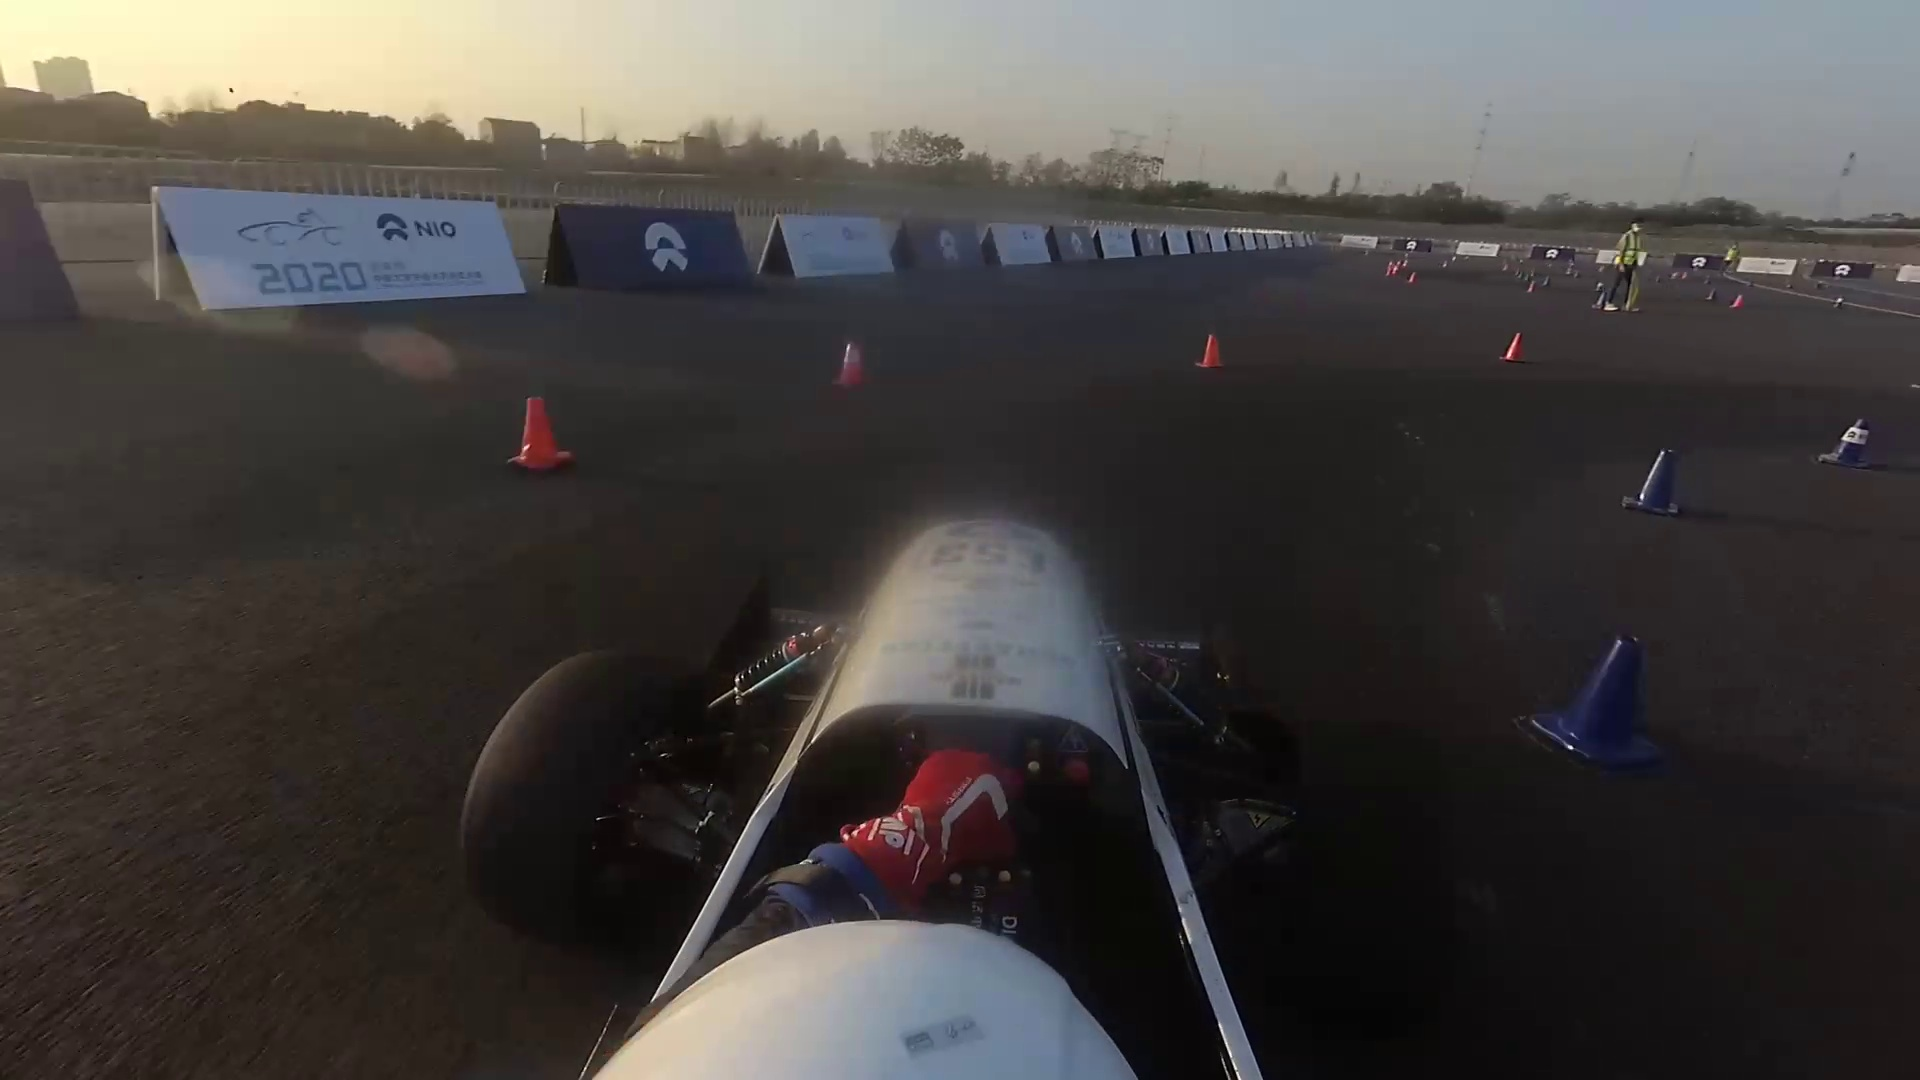blue_cone: (1534, 636, 1644, 766), (1633, 452, 1683, 513), (1821, 414, 1873, 462), (1501, 330, 1528, 364)
red_cone: (495, 398, 568, 462), (829, 338, 869, 388), (1196, 334, 1221, 372)
